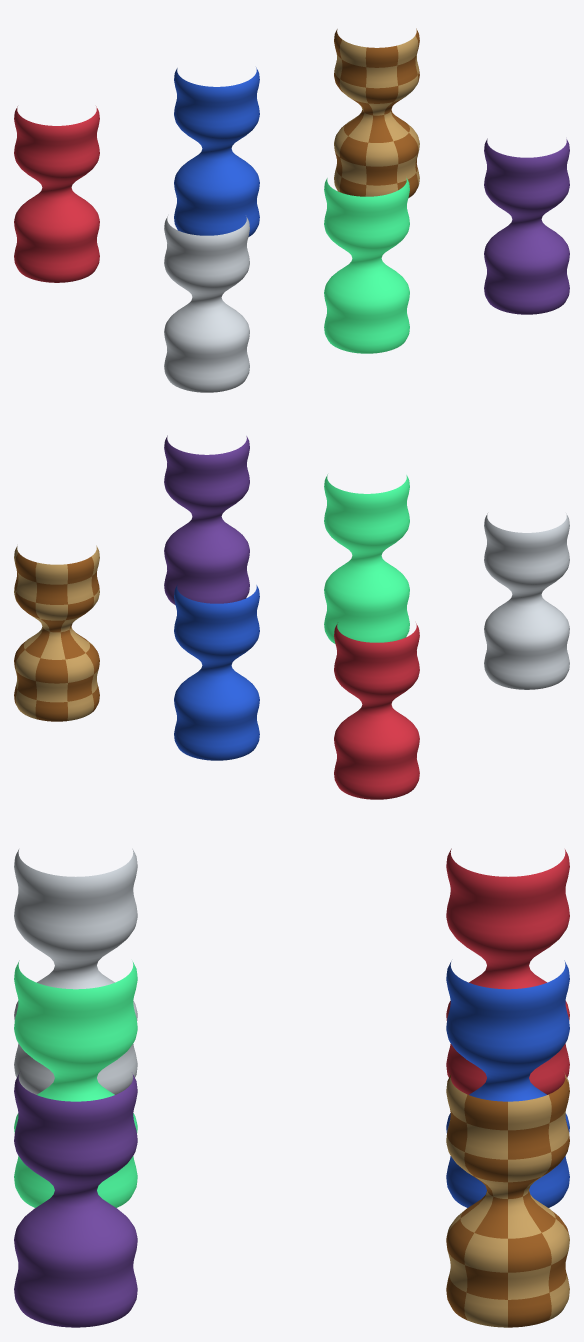
The model's file is reliquaries.glb.
3 renders of one model, top to bottom at view 1: azimuth 30°, elevation 25°; view 2: azimuth 150°, elevation 25°; view 3: azimuth 270°, elevation 25°, orthographic. The views are drawn at different scales.
Bounding box in the file's own units: 7.89 × 3 × 6.69.
6 materials, 2 textured.
